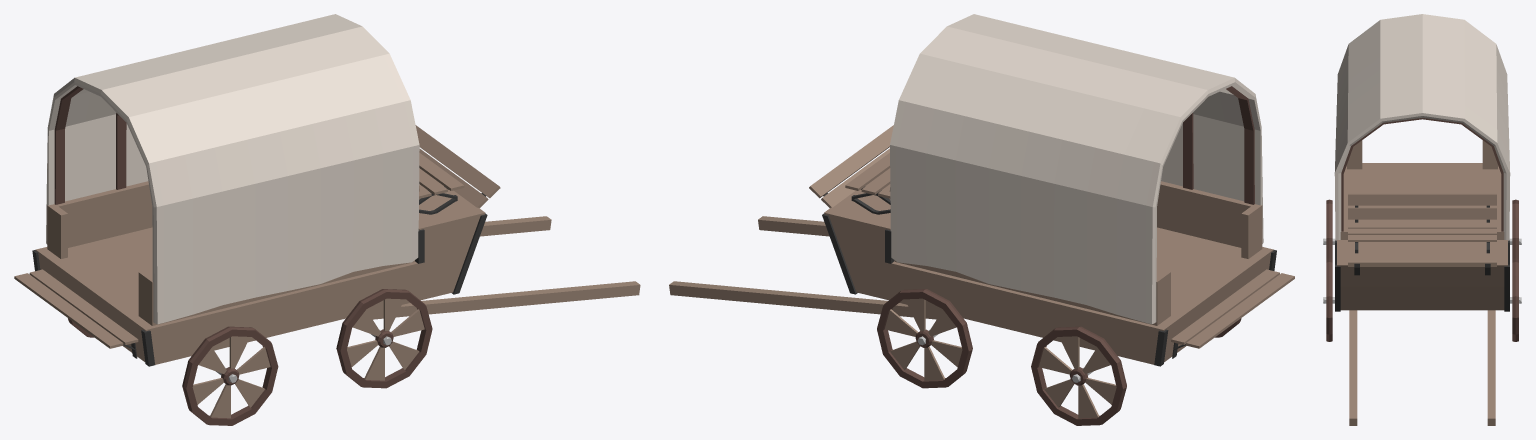
Rendered from Cart.glb.
3 renders of one model, left to right at view 1: azimuth 30°, elevation 25°; view 2: azimuth 150°, elevation 25°; view 3: azimuth 270°, elevation 25°, orthographic. The views are drawn at different scales.
Parts seen in each view (by area): view 1: RoofFabric, BodyWood, SidesWood, SeatWood, WheelBL, WheelFL, HorseDraw, RoofWood, BodyMetal; view 2: RoofFabric, BodyWood, SidesWood, SeatWood, WheelFR, WheelBR, HorseDraw, RoofWood, BodyMetal; view 3: RoofFabric, BodyWood, SeatWood, HorseDraw, SidesWood, RoofWood, BodyMetal, WheelBL, WheelBR, WheelFR, WheelFL, SeatMetal.
Boxes of the visible parts, x1,y1,x2,y2 form: RoofFabric: (46, 14, 419, 324); BodyWood: (35, 168, 485, 364); SidesWood: (47, 181, 414, 325); SeatWood: (14, 125, 500, 348); WheelBL: (336, 289, 432, 388); WheelFL: (182, 326, 278, 425); HorseDraw: (368, 216, 640, 319); RoofWood: (54, 86, 126, 204); BodyMetal: (32, 213, 487, 366); RoofFabric: (890, 14, 1263, 324); BodyWood: (824, 168, 1273, 364); SidesWood: (895, 181, 1262, 325); SeatWood: (809, 125, 1294, 348); WheelFR: (1031, 326, 1126, 425); WheelBR: (877, 289, 972, 388); HorseDraw: (669, 216, 940, 319); RoofWood: (1183, 86, 1254, 204); BodyMetal: (822, 213, 1276, 366); RoofFabric: (1334, 14, 1510, 240); BodyWood: (1337, 163, 1507, 310); SeatWood: (1348, 193, 1496, 266); HorseDraw: (1349, 310, 1495, 425); SidesWood: (1340, 140, 1504, 239); RoofWood: (1341, 118, 1503, 231); BodyMetal: (1335, 240, 1509, 311); WheelBL: (1326, 258, 1332, 341); WheelBR: (1512, 258, 1518, 341); WheelFR: (1512, 199, 1518, 258); WheelFL: (1326, 199, 1332, 258); SeatMetal: (1354, 205, 1490, 275).
Size of the model in its own units: 4.33 by 2.4 by 1.8.
